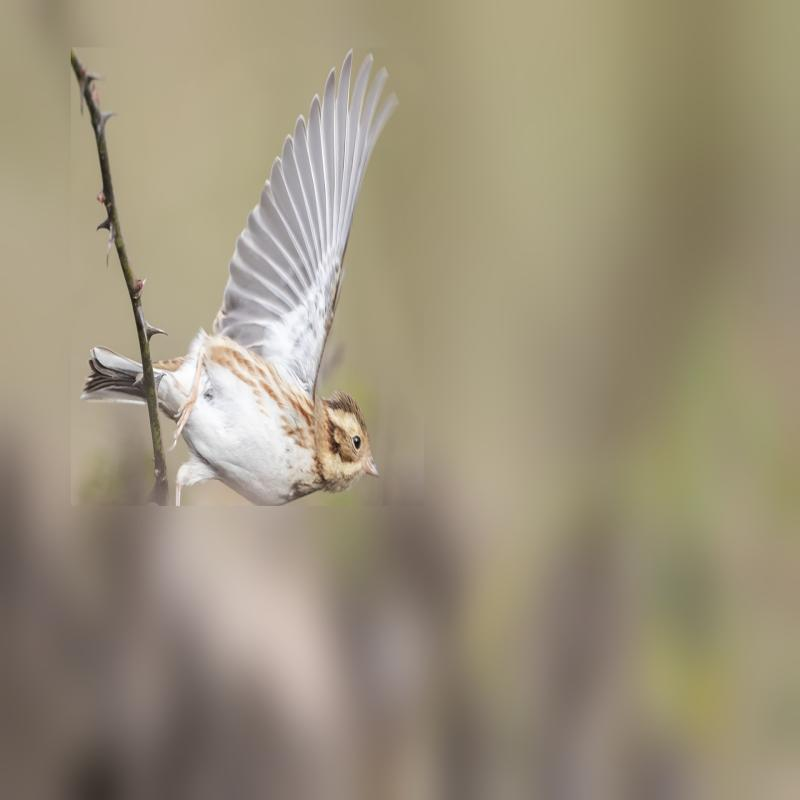rustic bunting: (71, 48, 422, 509)
